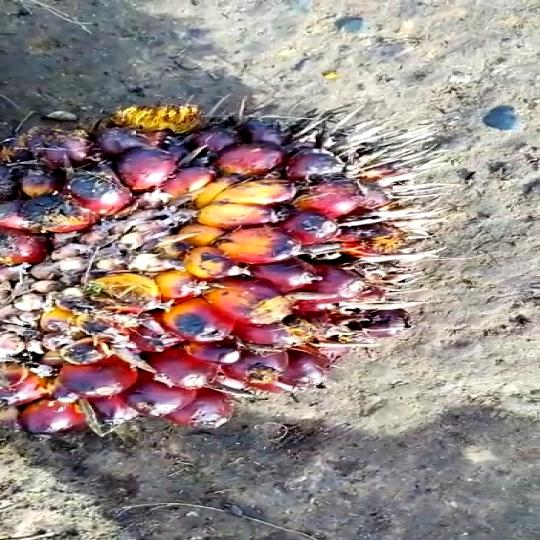masak: (0, 98, 414, 472)
